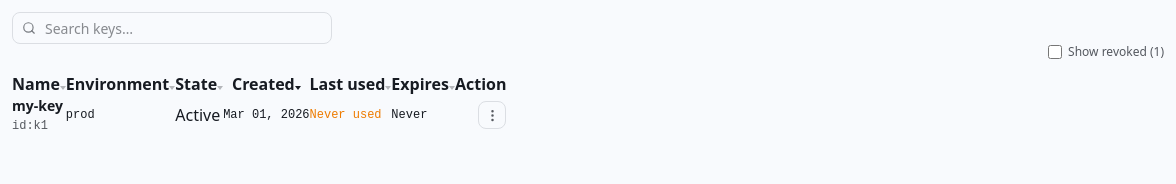
Test: KeysTable — revoked keys hidden by default › hides revoked rows and offers a "Show revoked (N)" toggle
Expected: the text "dead-key" is not shown
Click the checkbox labelled "Show revoked (1)" at x=1055, y=52, box [1048,45,1062,59]
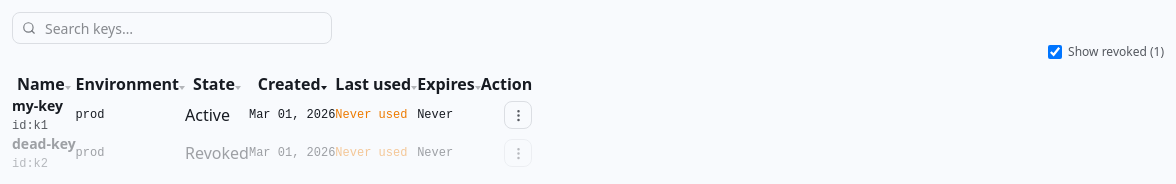
Now the text "dead-key" is shown, box [12,134,76,154]
